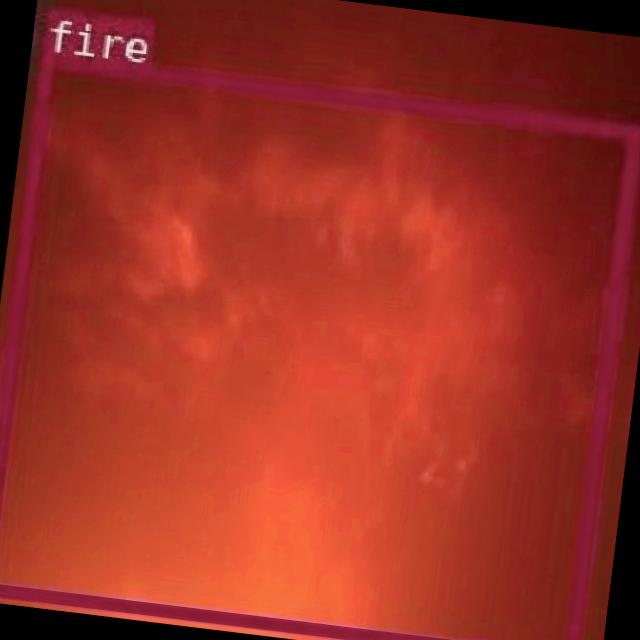fire: (0, 51, 639, 640)
